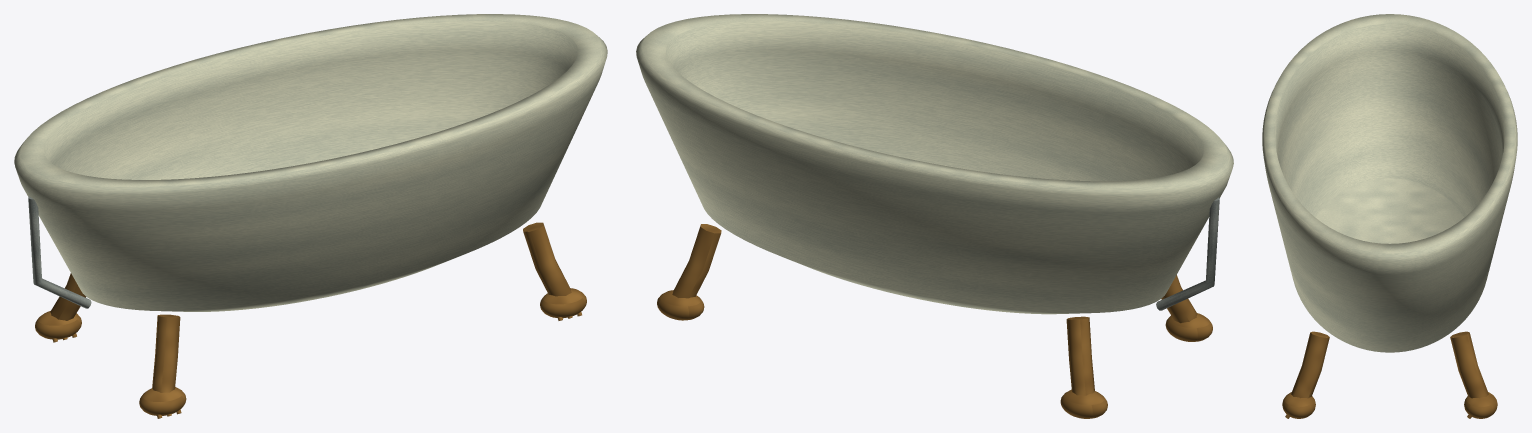
Rendered from Bathtub.fbx.
3 renders of one model, left to right at view 1: azimuth 30°, elevation 25°; view 2: azimuth 150°, elevation 25°; view 3: azimuth 270°, elevation 25°, orthographic. The views are drawn at different scales.
Visible parts, largest first — view 1: Bathtub_Enamel, Bathtub_Brass, Bathtub_Chrome; view 2: Bathtub_Enamel, Bathtub_Brass, Bathtub_Chrome; view 3: Bathtub_Enamel, Bathtub_Brass.
Boxes of the visible parts, x1,y1,x2,y2 form: Bathtub_Enamel: (14, 14, 607, 311); Bathtub_Brass: (35, 222, 586, 418); Bathtub_Chrome: (28, 196, 91, 308); Bathtub_Enamel: (636, 14, 1233, 314); Bathtub_Brass: (657, 224, 1212, 418); Bathtub_Chrome: (1156, 197, 1219, 310); Bathtub_Enamel: (1262, 14, 1517, 352); Bathtub_Brass: (1282, 331, 1497, 418).
Bounding box in the file's own units: 240 × 90 × 106.
